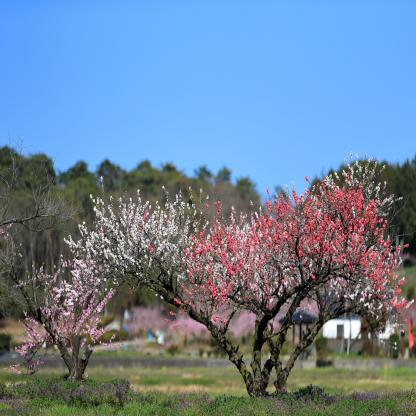Ume: (91, 146, 415, 383), (0, 220, 118, 379)
